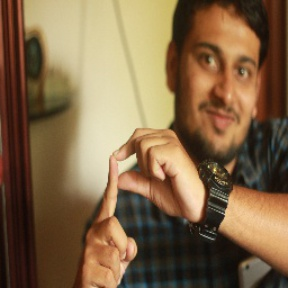P: (72, 122, 196, 288)
